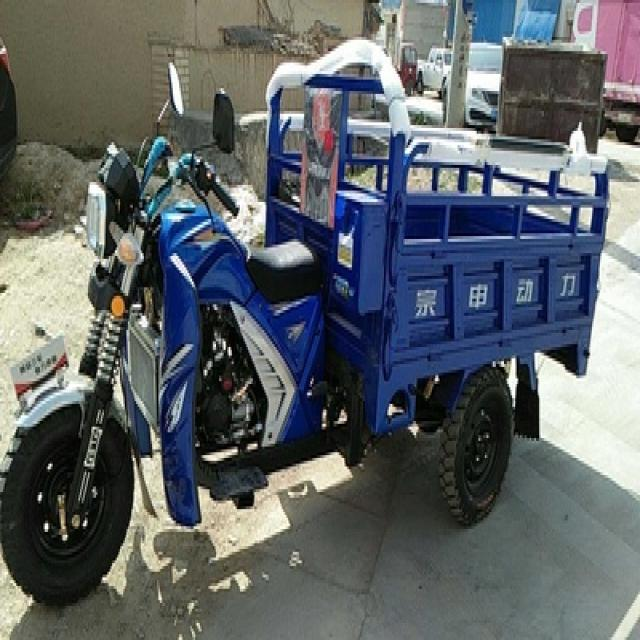car: (462, 37, 501, 128), (413, 43, 451, 94)
tricycle: (0, 40, 610, 603), (392, 37, 418, 94)
